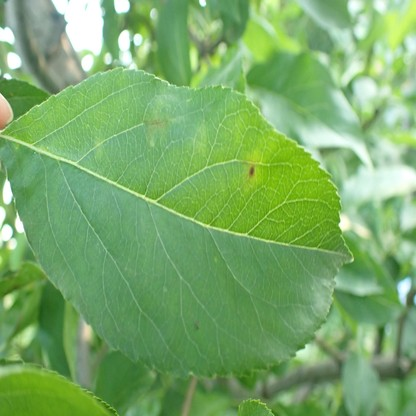scab: (143, 110, 171, 145), (242, 155, 261, 191), (94, 137, 105, 161), (194, 320, 199, 333)
